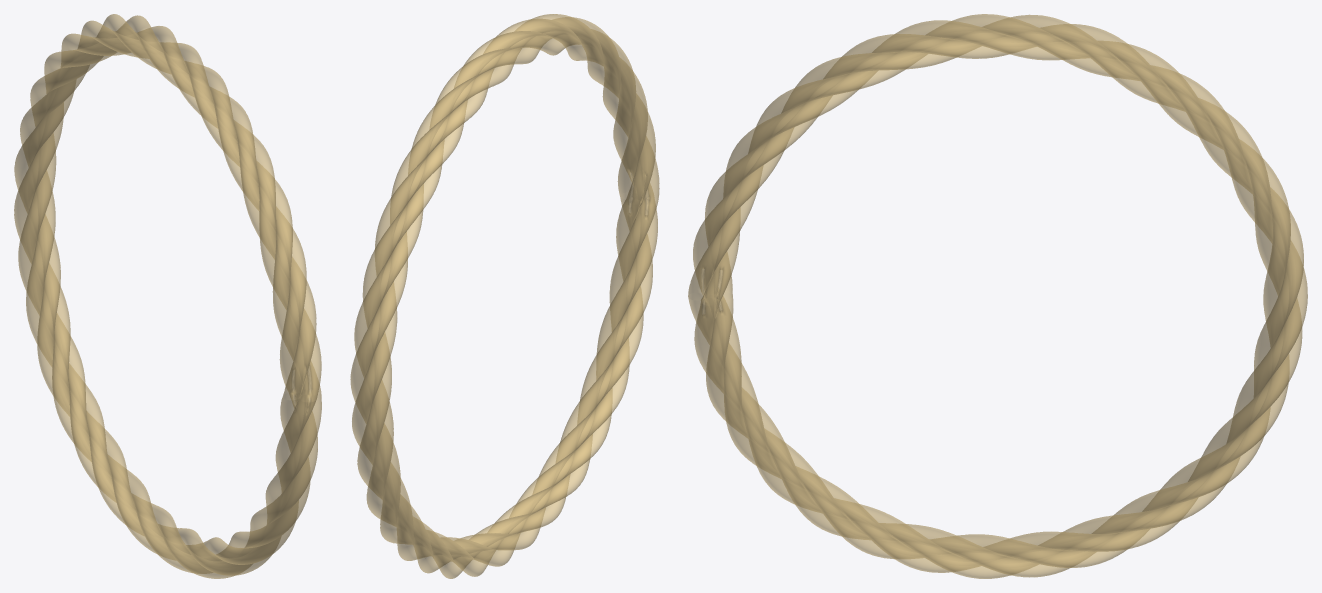
The picture shows the model from 3 angles, left to right: view 1: azimuth 30°, elevation 25°; view 2: azimuth 150°, elevation 25°; view 3: azimuth 270°, elevation 25°; orthographic projection. The views are drawn at different scales.
Visible parts, largest first — view 1: ring; view 2: ring; view 3: ring.
Part boxes in pixels (left/top/right/bottom): ring: left=14, top=14, right=321, bottom=578; ring: left=350, top=14, right=659, bottom=578; ring: left=688, top=14, right=1307, bottom=578.
Bounding box in the file's own units: 0.1559 × 2.16 × 2.16.
